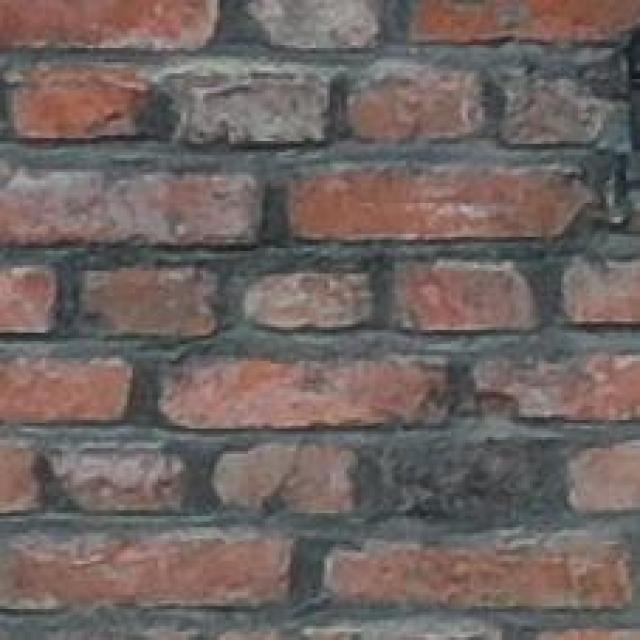Crack: (544, 15, 640, 263)
